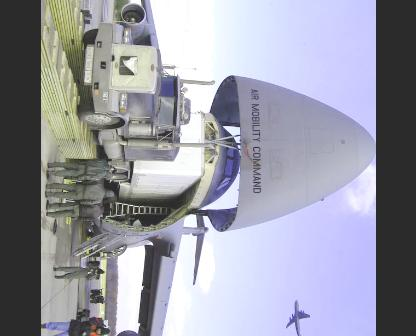C17: (69, 0, 377, 333), (285, 297, 311, 333)
